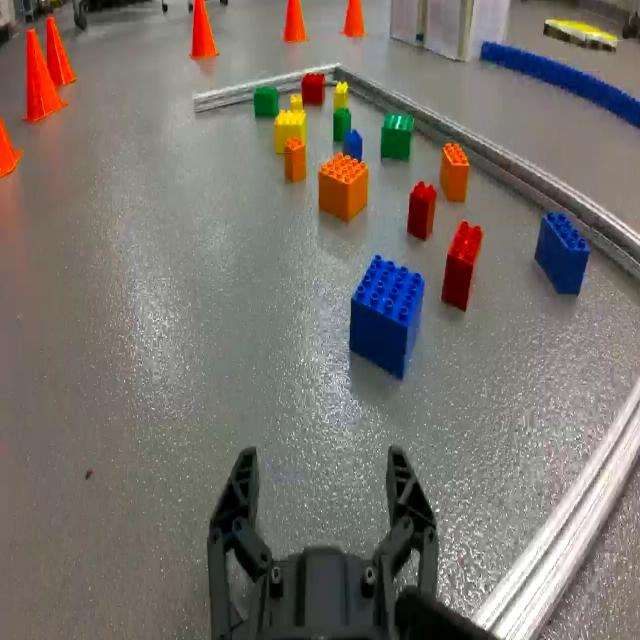block: (275, 107, 306, 151), (335, 81, 348, 110), (290, 94, 303, 112)
blue: (348, 249, 424, 381), (534, 206, 588, 300), (343, 126, 362, 160)
cone: (11, 18, 75, 134), (37, 12, 82, 95), (0, 86, 25, 186), (183, 0, 220, 62), (278, 0, 309, 46), (339, 1, 367, 41)
green: (381, 108, 414, 163), (254, 85, 280, 118), (334, 106, 348, 150)
orange: (315, 153, 369, 220), (440, 140, 469, 202), (286, 136, 304, 181)
red goal: (444, 217, 478, 308), (408, 180, 433, 240), (301, 71, 324, 106)
river: (479, 46, 640, 132)
storage cube: (422, 1, 512, 64), (390, 0, 424, 48)
yellow goal: (538, 7, 624, 58)
